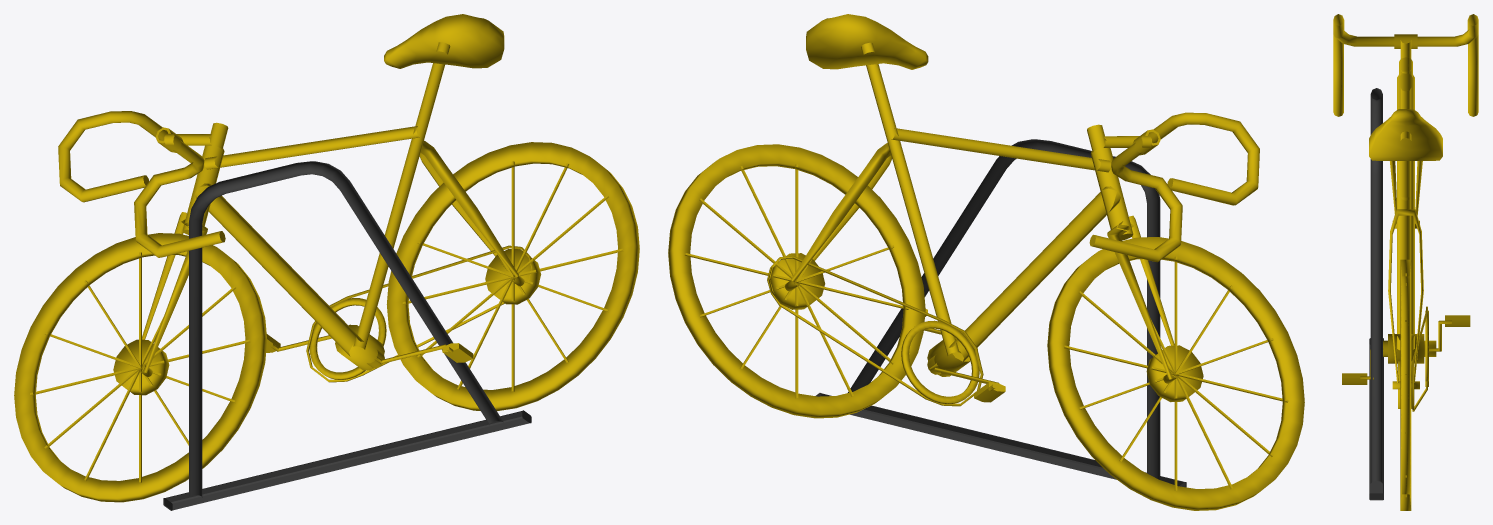
The picture shows the model from 3 angles, left to right: view 1: azimuth 30°, elevation 25°; view 2: azimuth 150°, elevation 25°; view 3: azimuth 270°, elevation 25°; orthographic projection. The views are drawn at different scales.
Parts seen in each view (by area): view 1: SM_174; view 2: SM_174; view 3: SM_174.
Part boxes in pixels (x1,y1,x2,y2): SM_174: (14,14,639,510); SM_174: (668,14,1304,510); SM_174: (1333,14,1478,510).
Size of the model in its own units: 1.73 by 1.04 by 0.3981.
